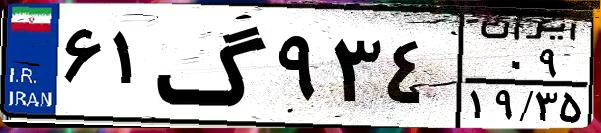0: (508, 27, 537, 80)
1: (110, 28, 156, 98), (470, 70, 495, 125)
3: (330, 28, 385, 110), (535, 70, 560, 125)
4: (385, 28, 445, 110)
5: (560, 70, 590, 125)
6: (57, 26, 110, 100)
9: (270, 28, 330, 110), (537, 27, 568, 80), (495, 70, 520, 125)
گ: (156, 12, 270, 120)
